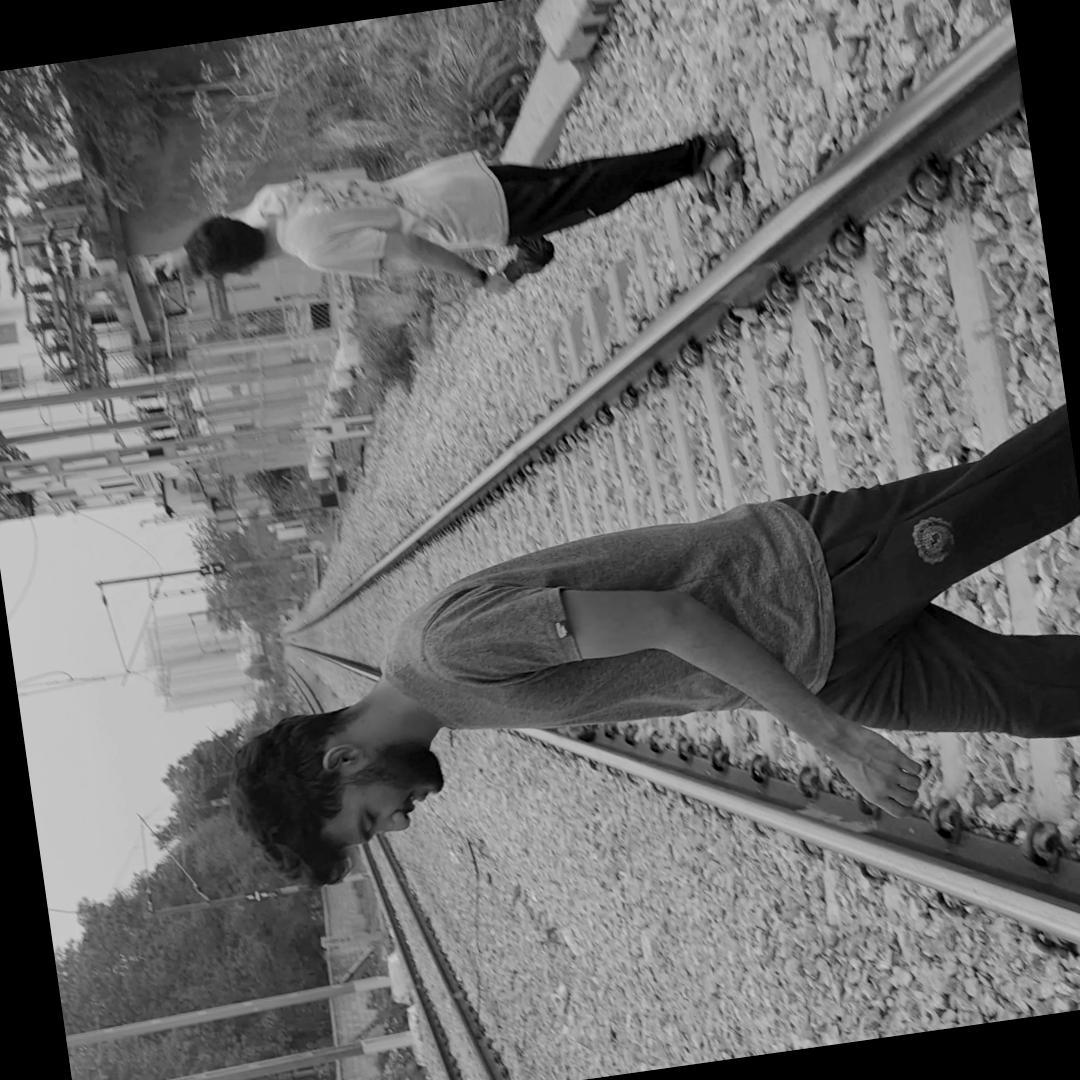standing: (195, 314, 1080, 930), (169, 71, 766, 336)
track: (256, 0, 1080, 1009)
